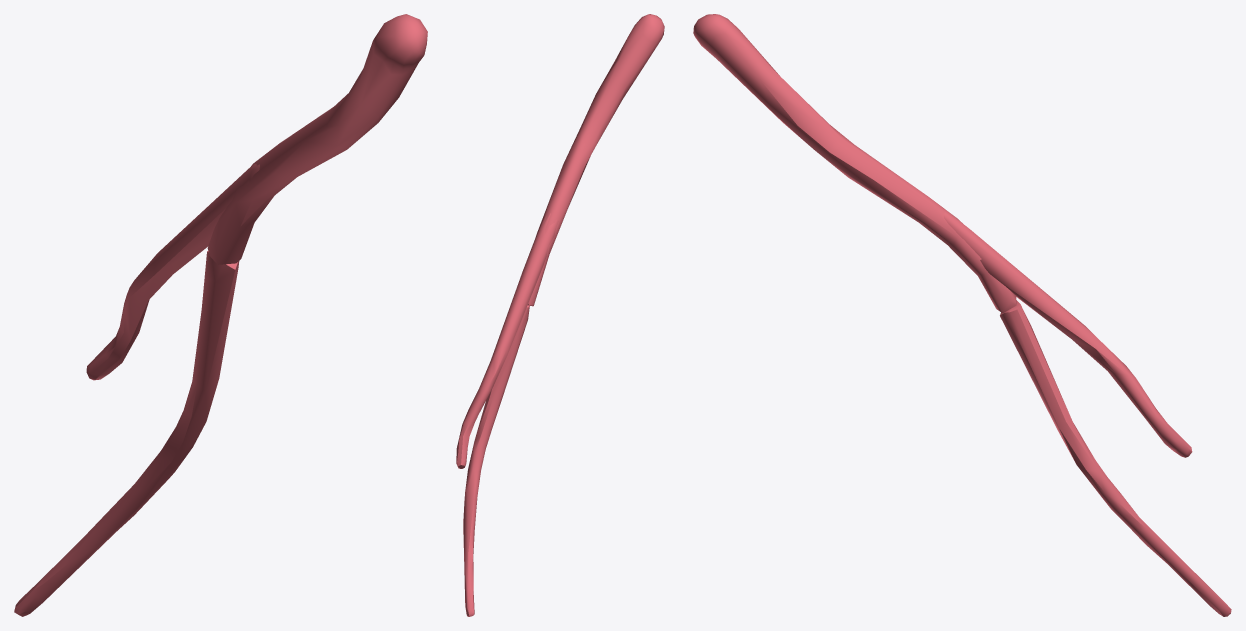
Rendered from fma18888_cx33.glb.
The picture shows the model from 3 angles, left to right: view 1: azimuth 30°, elevation 25°; view 2: azimuth 150°, elevation 25°; view 3: azimuth 270°, elevation 25°; orthographic projection. The views are drawn at different scales.
Visible parts, largest first — view 1: FMA18888_CX33; view 2: FMA18888_CX33; view 3: FMA18888_CX33.
Boxes of the visible parts, left/top/right/bottom form: FMA18888_CX33: left=14, top=14, right=427, bottom=616; FMA18888_CX33: left=456, top=14, right=664, bottom=616; FMA18888_CX33: left=693, top=14, right=1231, bottom=616.
Bounding box in the file's own units: 0.0141 × 0.1249 × 0.0999.
